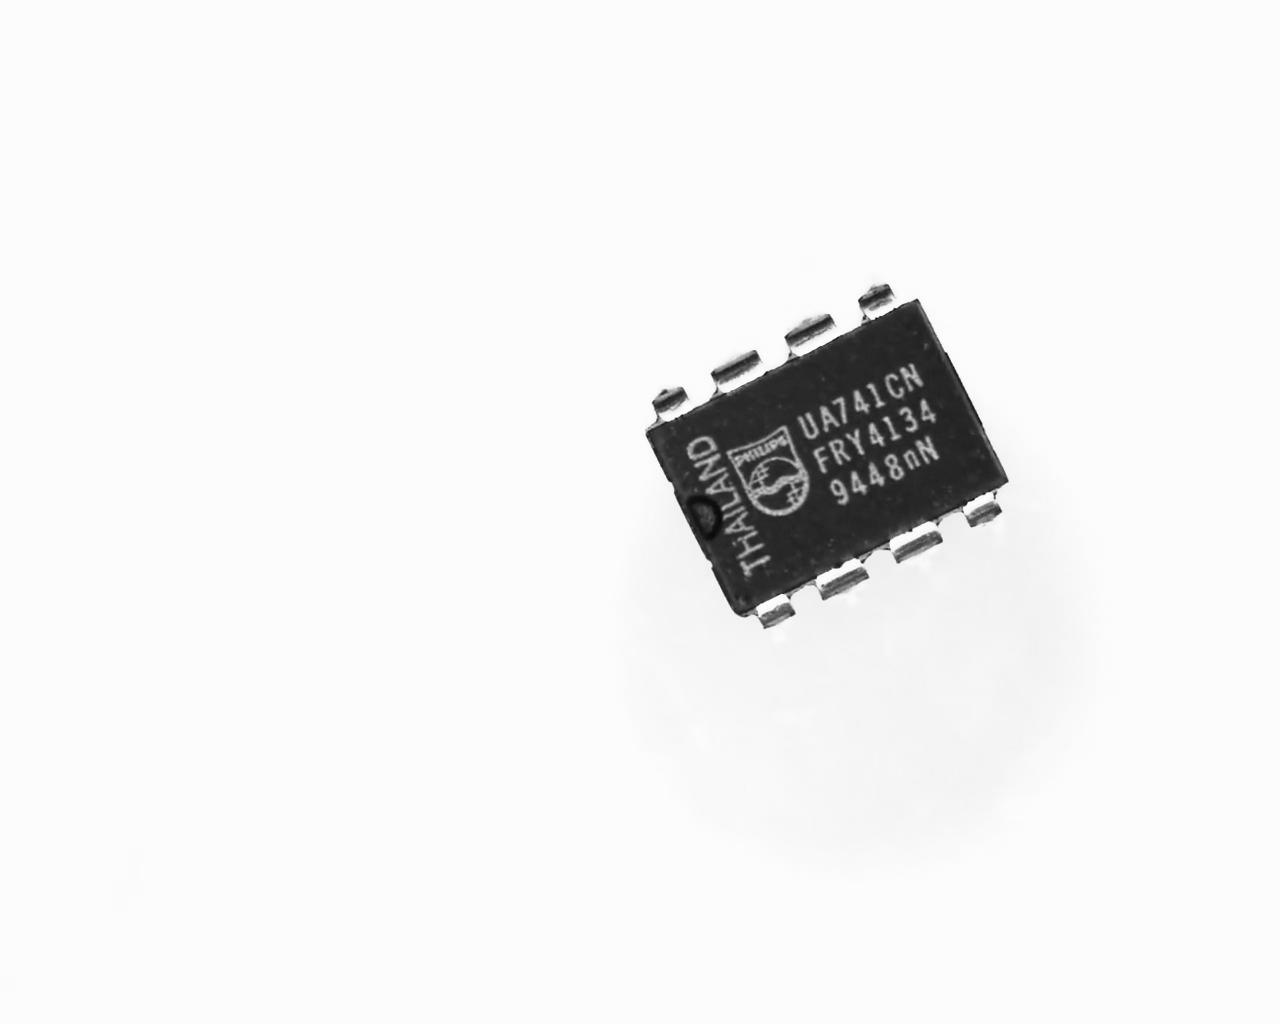Leg: (698, 342, 773, 393), (812, 555, 875, 611), (884, 519, 949, 569), (769, 310, 838, 355), (750, 587, 804, 645), (845, 274, 901, 322), (638, 380, 699, 421), (960, 488, 1006, 541), (1039, 501, 1039, 501)
